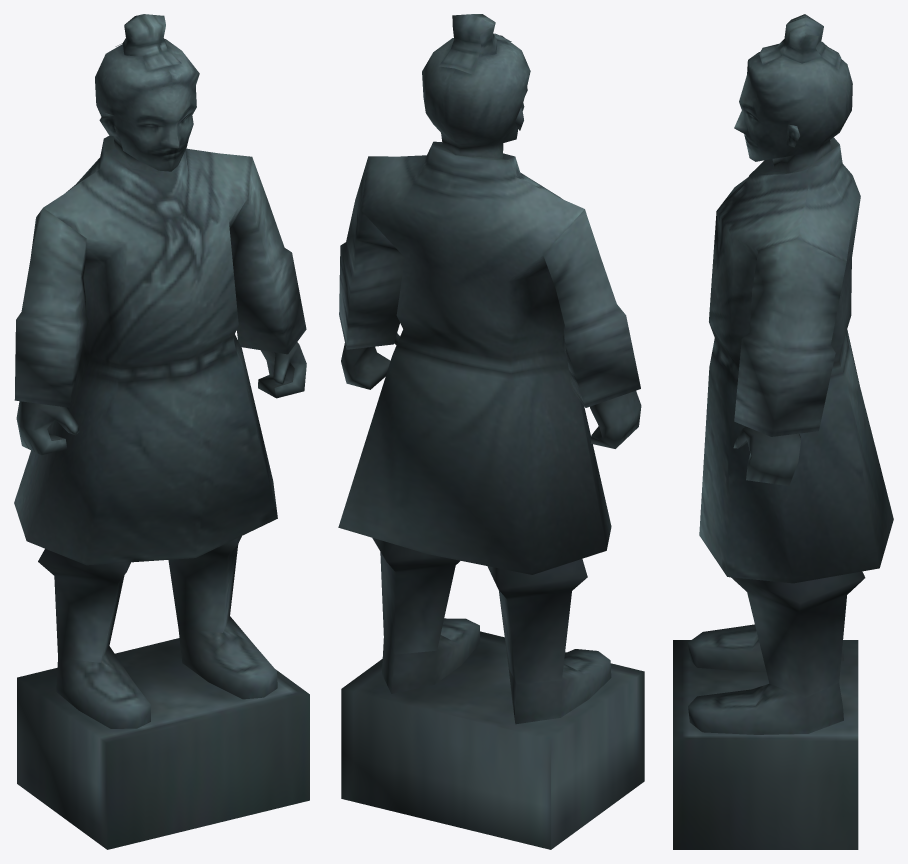
File: Stage_DiXiaCheng_BinMaYong_09.FBX
3 views of the same model, side by side, from view 1: azimuth 30°, elevation 25°; view 2: azimuth 150°, elevation 25°; view 3: azimuth 270°, elevation 25° (orthographic). The views are drawn at different scales.
Visible parts, largest first — view 1: Stage_DiXiaCheng_BinMaYong_09; view 2: Stage_DiXiaCheng_BinMaYong_09; view 3: Stage_DiXiaCheng_BinMaYong_09.
Part boxes in pixels (bbox=[...]): Stage_DiXiaCheng_BinMaYong_09: bbox=[14, 14, 309, 849]; Stage_DiXiaCheng_BinMaYong_09: bbox=[338, 14, 644, 849]; Stage_DiXiaCheng_BinMaYong_09: bbox=[673, 14, 893, 849].
Bounding box in the file's own units: 86.78 × 217 × 55.54.
